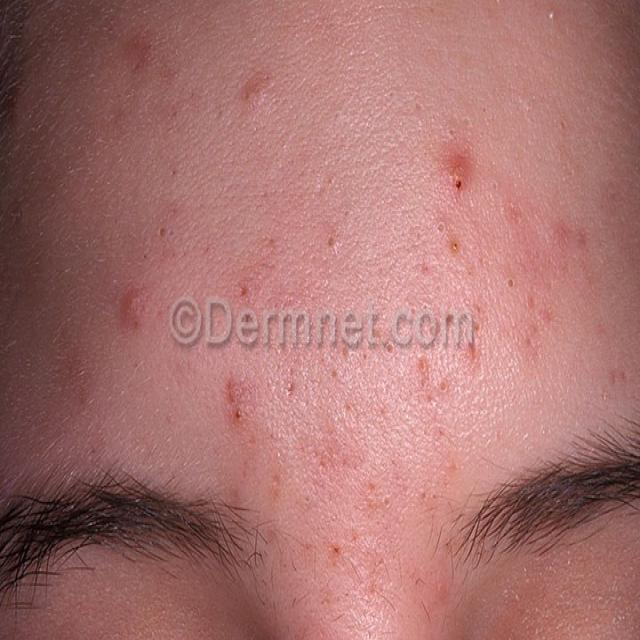Acne: (440, 144, 477, 199), (224, 370, 256, 433), (236, 68, 275, 110), (117, 284, 151, 330), (124, 32, 153, 80), (432, 569, 452, 607), (233, 275, 256, 307), (501, 197, 522, 229), (553, 219, 572, 252), (414, 350, 432, 384), (446, 232, 464, 260), (575, 227, 590, 256), (329, 538, 343, 564)
